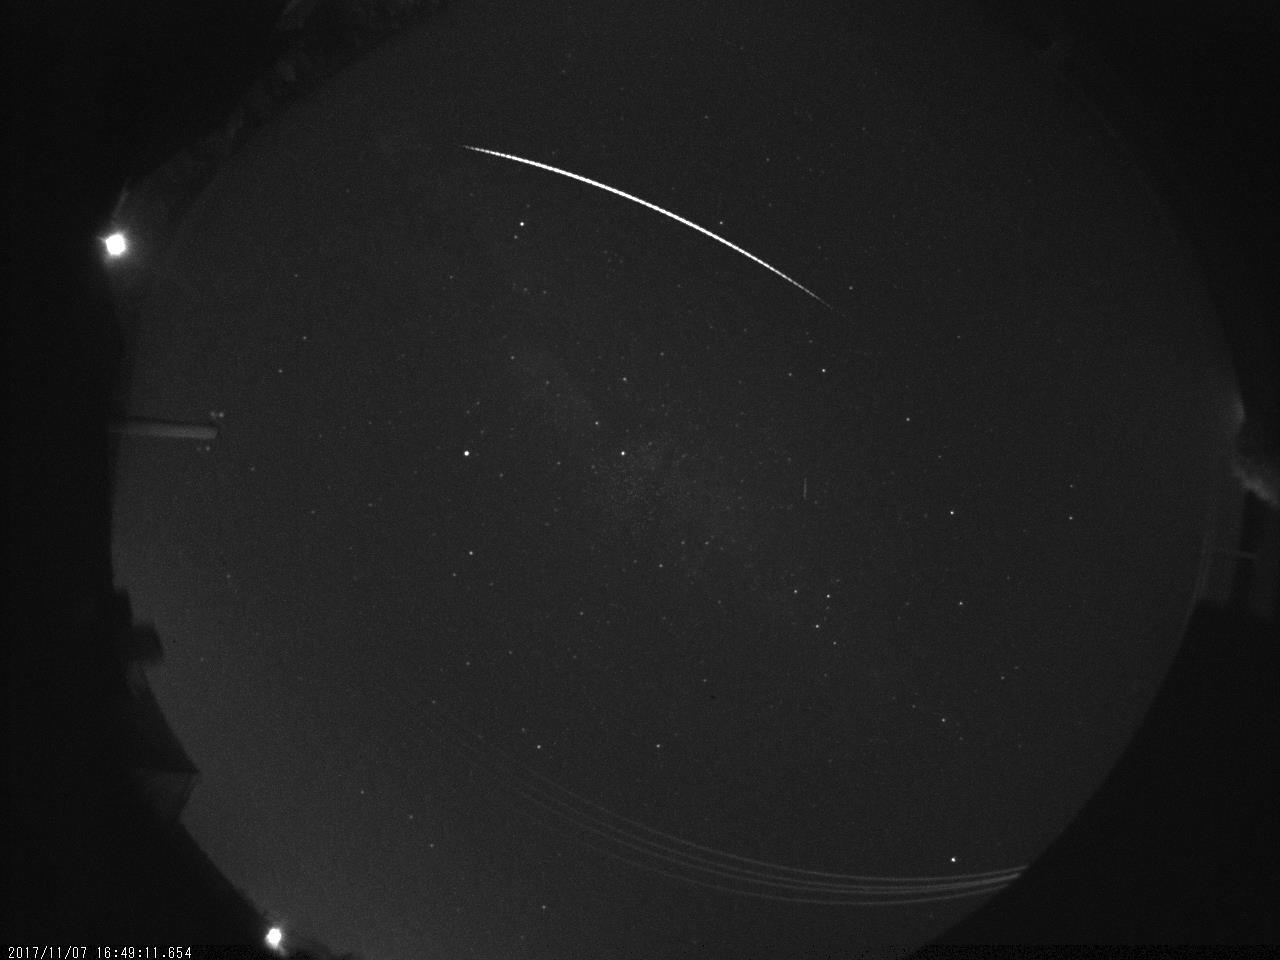Meteor: (459, 138, 831, 321)
